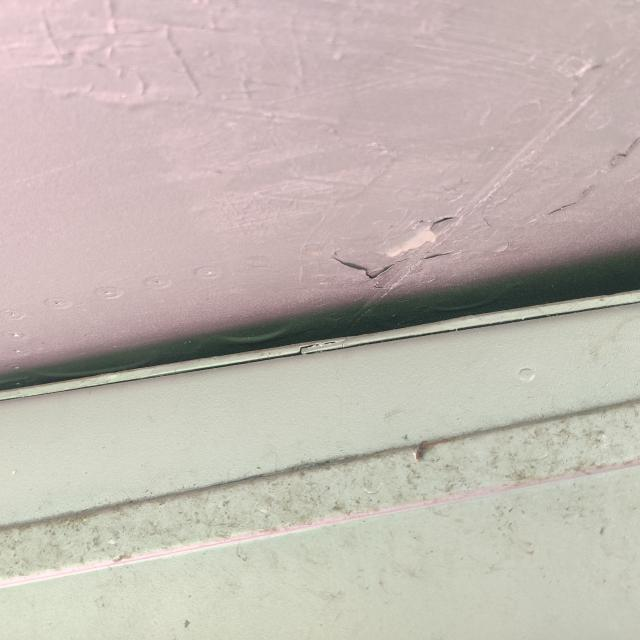paint-off: (326, 205, 468, 289)
